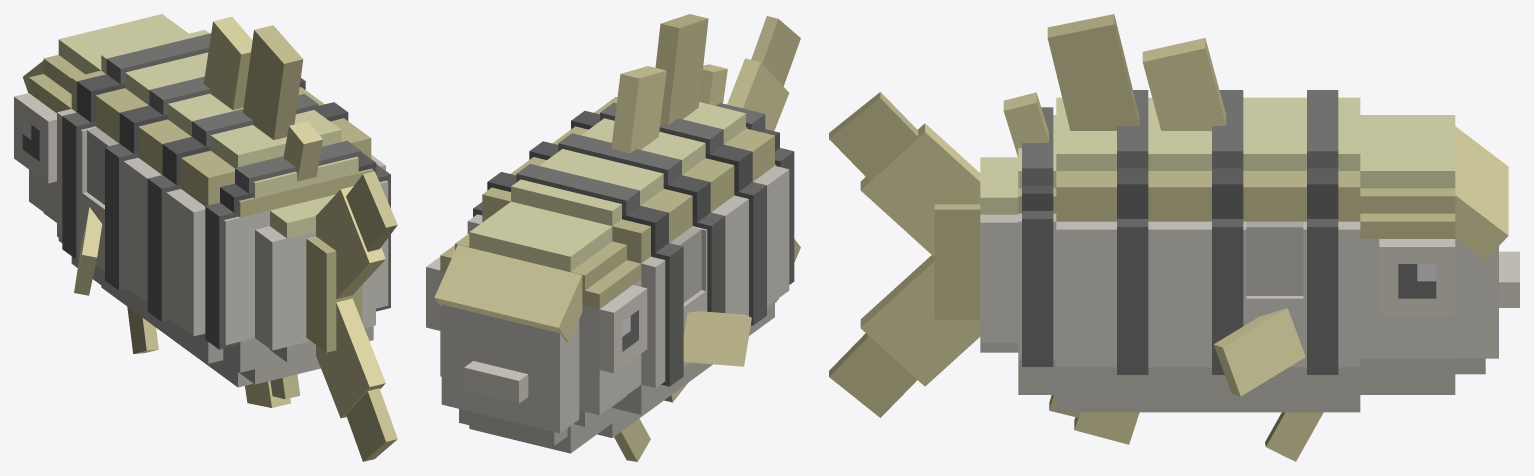
Rendered from SergeantMajor.glb.
The picture shows the model from 3 angles, left to right: view 1: azimuth 30°, elevation 25°; view 2: azimuth 150°, elevation 25°; view 3: azimuth 270°, elevation 25°; orthographic projection. The views are drawn at different scales.
Parts seen in each view (by area): view 1: S4, S3, S1, Tail, S2, Head; view 2: Head, S1, S3, S2, Tail, S4; view 3: S1, Head, S3, S2, Tail, S4.
Boxes of the visible parts, x1,y1,x2,y2 form: S4: (205,121,390,384); S3: (147,25,385,407); S1: (57,30,211,353); Tail: (306,171,397,461); S2: (105,16,324,355); Head: (14,14,188,242); Head: (426,201,647,453); S1: (467,150,751,461); S3: (571,14,789,402); S2: (529,66,747,400); Tail: (727,16,800,299); S4: (699,64,794,302); S1: (1213,90,1360,461); Head: (1360,115,1519,394); S3: (1047,14,1151,444); S2: (1142,38,1246,412); Tail: (829,92,980,417); S4: (980,92,1056,394).
Bounding box in the file's own units: 6.28 × 8.54 × 12.72.
